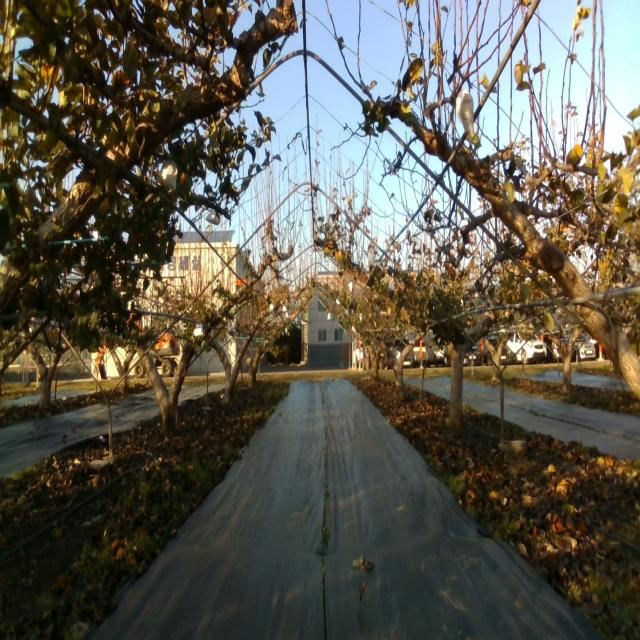pearbags: (154, 153, 178, 193), (455, 88, 474, 138)
